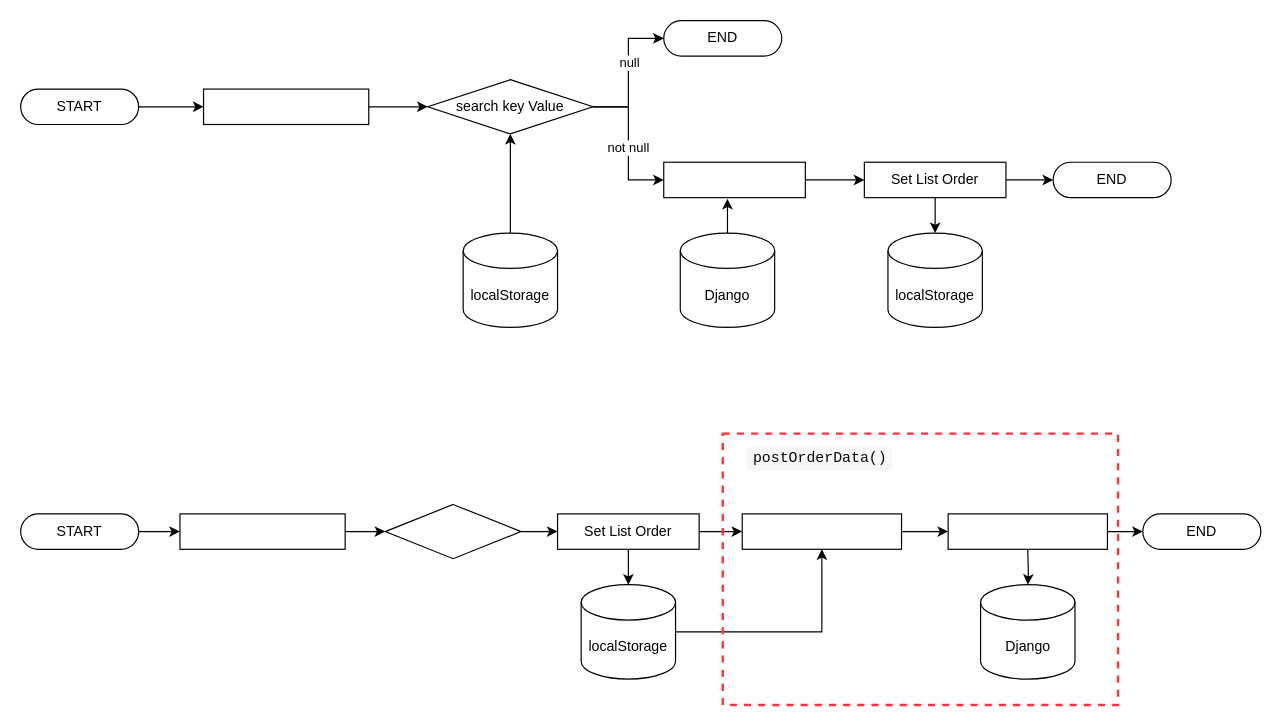
The diagram is 1281 pixels wide and 727 high, and some of its shapes have lost their labels. The shapes that lost their labels are listed below. From the top down, each one's centre as x and y in pixels, then its label:
At point 285,106: "scenario_detail.html".
At point 734,179: "Get List Order".
At point 262,531: "Move the block in the List".
At point 452,531: "SortableJs".
At point 821,531: "Get Order List".
At point 1027,531: "Post Order List".
